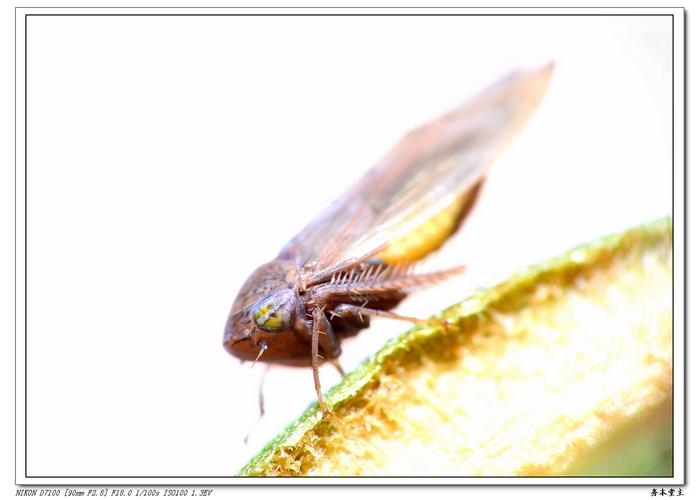Cicadellidae: (223, 59, 558, 363)
